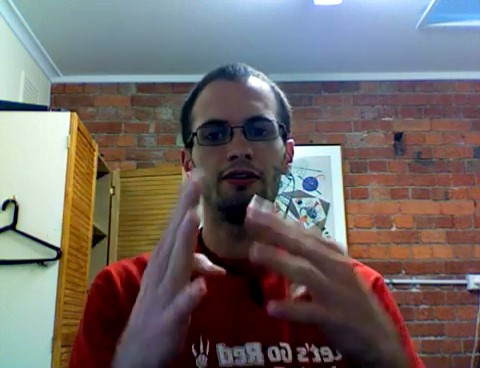W: (130, 167, 376, 368)
